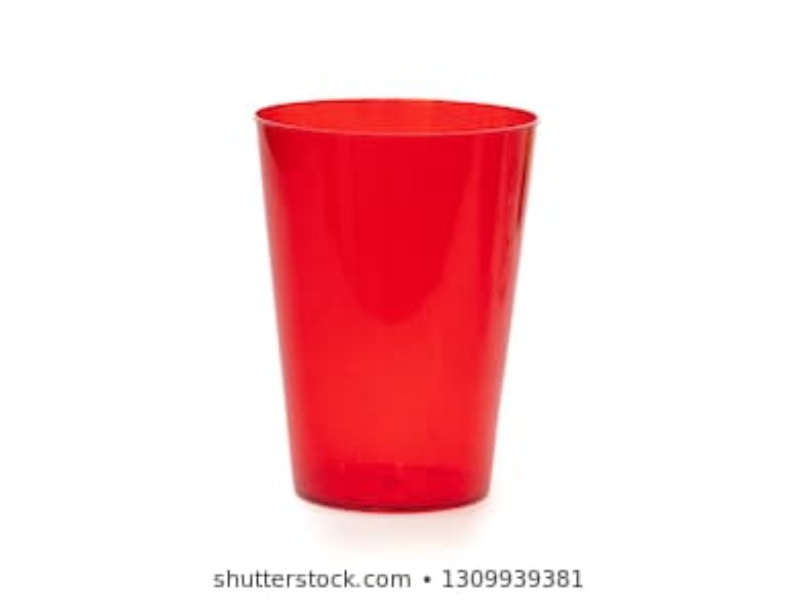plastic-cup: (249, 94, 543, 515)
